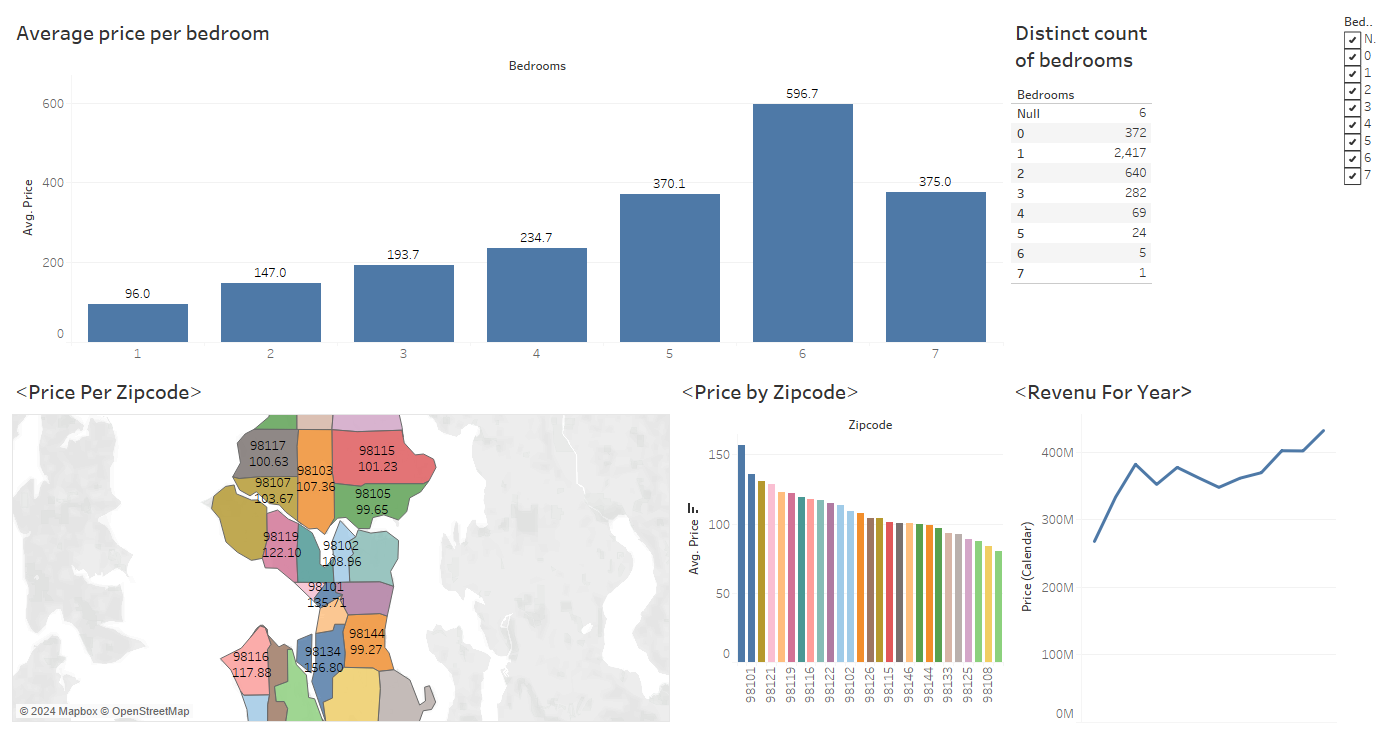

The dashboard page shown, as its layout file describes it:
{"tool":"tableau","page":{"name":"Dashboard 1","canvas":[1000,1000],"units":"permille","ordinal":0},"visuals":[{"type":"worksheet","title":"Sheet 4","mark":"Automatic","rows":["price"],"cols":["bedrooms"],"box":[5.8,10.9,719.4,489.1]},{"type":"worksheet","title":"Sheet 5","mark":"Automatic","rows":["bedrooms"],"box":[725.2,10.9,239.5,489.1]},{"type":"filter","title":"Sheet 5","param":"[federated.0hf48ho1sagvnf19aq8o31r0wtri].[none:bedrooms:ok]","box":[964.7,10.9,29.5,302.4]},{"type":"worksheet","title":"Sheet 2","mark":"Multipolygon","box":[5.8,500,479.4,489.1]},{"type":"worksheet","title":"Sheet 1","mark":"Automatic","rows":["price"],"cols":["zipcode"],"box":[485.2,500,239.7,489.1]},{"type":"worksheet","title":"Sheet 3","mark":"Automatic","rows":["price (calendar)"],"cols":["date"],"box":[724.9,500,239.8,489.1]}]}

Visuals, with their boxes on the dashboard's canvas, which has no fixed pixel size, in thousandths of its width and height (x1, y1, x2, y2). These are canvas units, not pixel positions in the 1389x734 screenshot, which may show the page scaled, cropped or inside an application window:
"Sheet 4" worksheet: 6 11 725 500
"Sheet 5" worksheet: 725 11 965 500
"Sheet 5" filter: 965 11 994 313
"Sheet 2" worksheet (Multipolygon marks): 6 500 485 989
"Sheet 1" worksheet: 485 500 725 989
"Sheet 3" worksheet: 725 500 965 989
